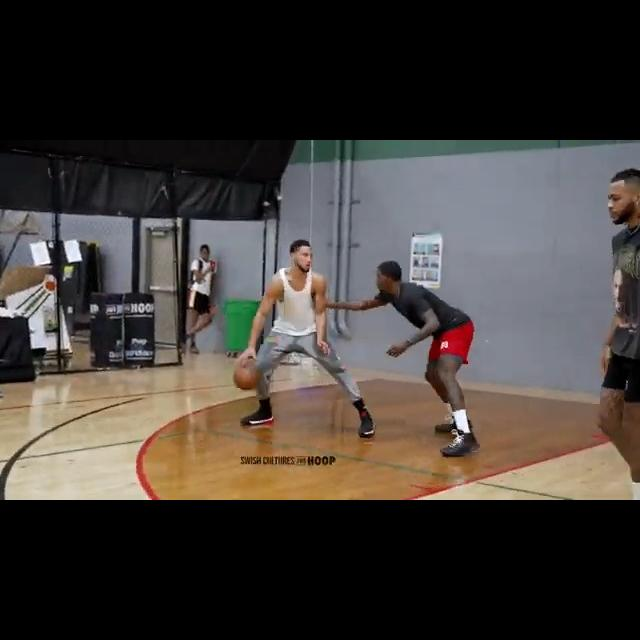person: (238, 239, 378, 436), (374, 257, 498, 462), (596, 168, 640, 500), (186, 235, 214, 355)
